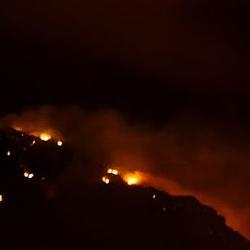fire: (126, 174, 136, 186), (109, 168, 121, 176), (24, 171, 35, 178), (42, 132, 49, 142), (101, 176, 109, 184)
